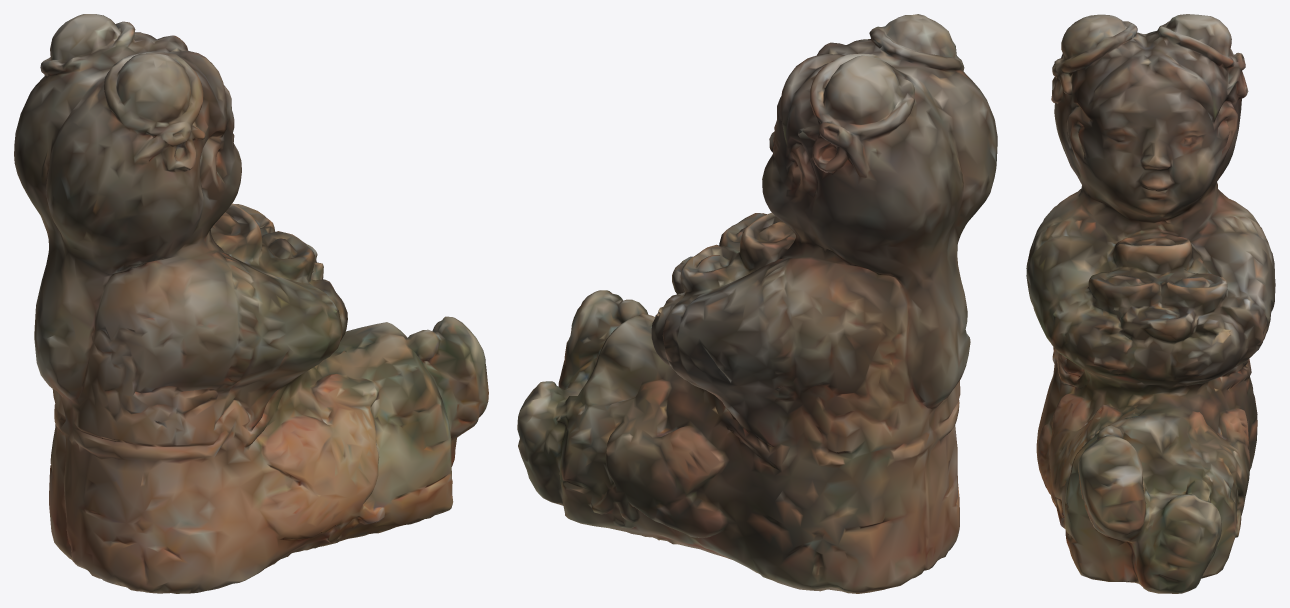
File: SM_Statue_NN_Large.fbx
The picture shows the model from 3 angles, left to right: view 1: azimuth 30°, elevation 25°; view 2: azimuth 150°, elevation 25°; view 3: azimuth 270°, elevation 25°; orthographic projection. The views are drawn at different scales.
Parts seen in each view (by area): view 1: SM_Statue_NN_05a; view 2: SM_Statue_NN_05a; view 3: SM_Statue_NN_05a.
Part boxes in pixels (box(x1,y1,x2,y2)): SM_Statue_NN_05a: box(14, 14, 488, 593); SM_Statue_NN_05a: box(517, 14, 997, 593); SM_Statue_NN_05a: box(1026, 14, 1275, 593).
Size of the model in its own units: 42.84 by 50.33 by 25.4.
